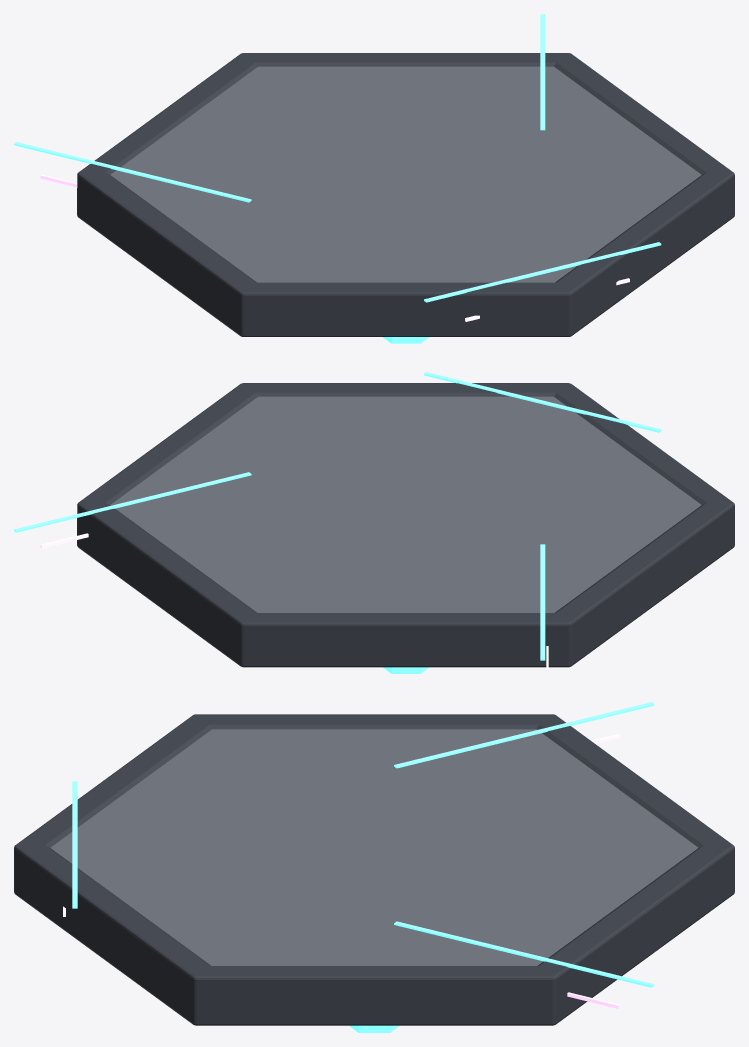
Rendered from platform.glb.
3 renders of one model, top to bottom at view 1: azimuth 30°, elevation 25°; view 2: azimuth 150°, elevation 25°; view 3: azimuth 270°, elevation 25°, orthographic. The views are drawn at different scales.
Visible parts, largest first — view 1: Platform; view 2: Platform; view 3: Platform.
Boxes of the visible parts, <box> form: Platform: <box>14,14,734,343</box>; Platform: <box>14,372,734,673</box>; Platform: <box>14,702,734,1032</box>.
Bounding box in the file's own units: 7.44 × 2.17 × 7.98.
